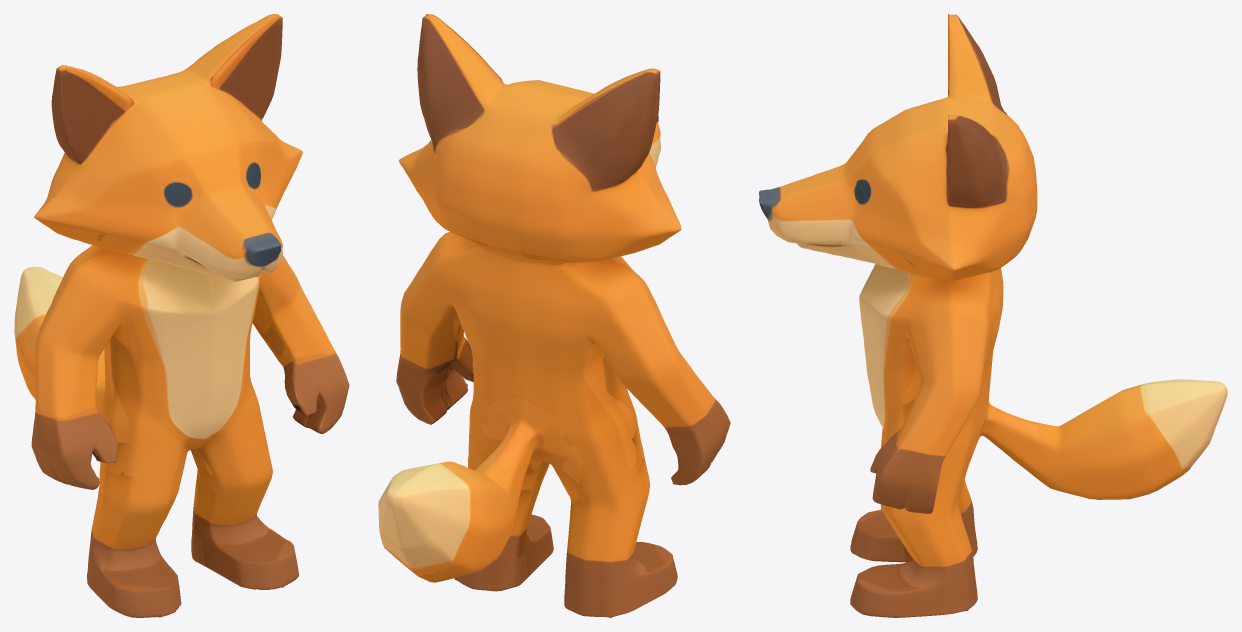
File: metamask_wolf.glb
The picture shows the model from 3 angles, left to right: view 1: azimuth 30°, elevation 25°; view 2: azimuth 150°, elevation 25°; view 3: azimuth 270°, elevation 25°; orthographic projection. The views are drawn at different scales.
Visible parts, largest first — view 1: model; view 2: model; view 3: model.
Part boxes in pixels (bbox=[...]): model: bbox=[14, 14, 349, 617]; model: bbox=[378, 14, 730, 617]; model: bbox=[759, 14, 1227, 617].
Bounding box in the file's own units: 1.12 × 1.9 × 1.58.
1 material, 1 textured.
